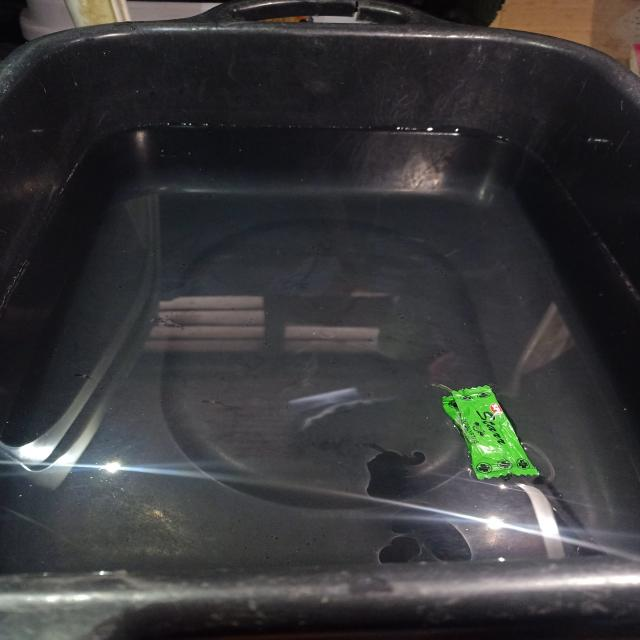Plastic Wrapper: (442, 385, 540, 480)
